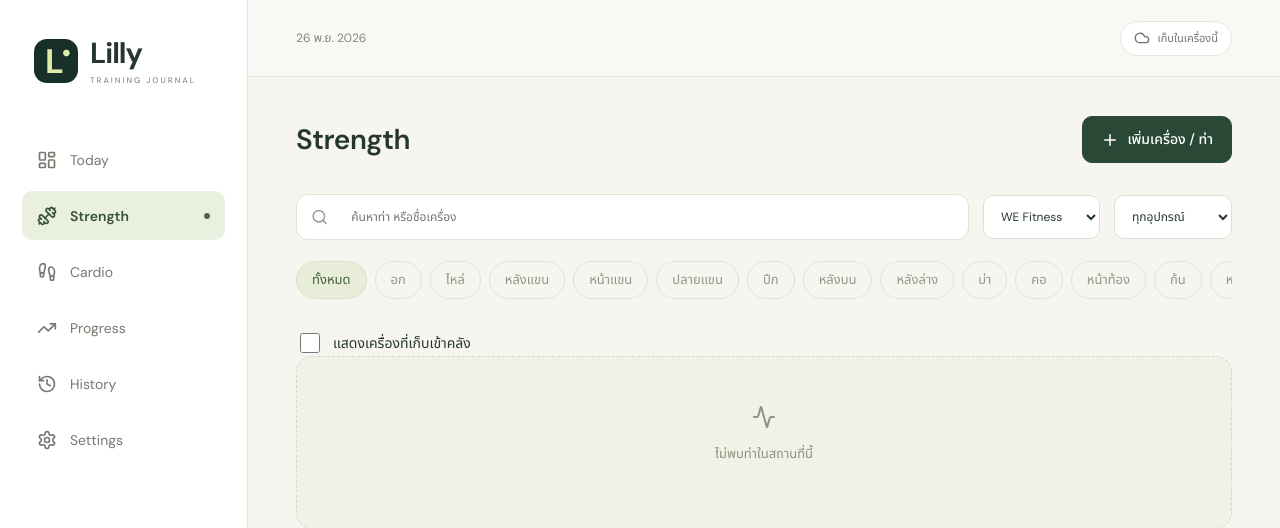
Test: shows Kettlebell Upright Row under the home filter with editable photos
This screenshot has width=1280, height=528.
Later steps or results of the test are not shown.
Select "ที่บ้าน" in the dropdown named "ฟิตเนส": (1042, 217) [983, 195, 1100, 239]
(page scrolled)
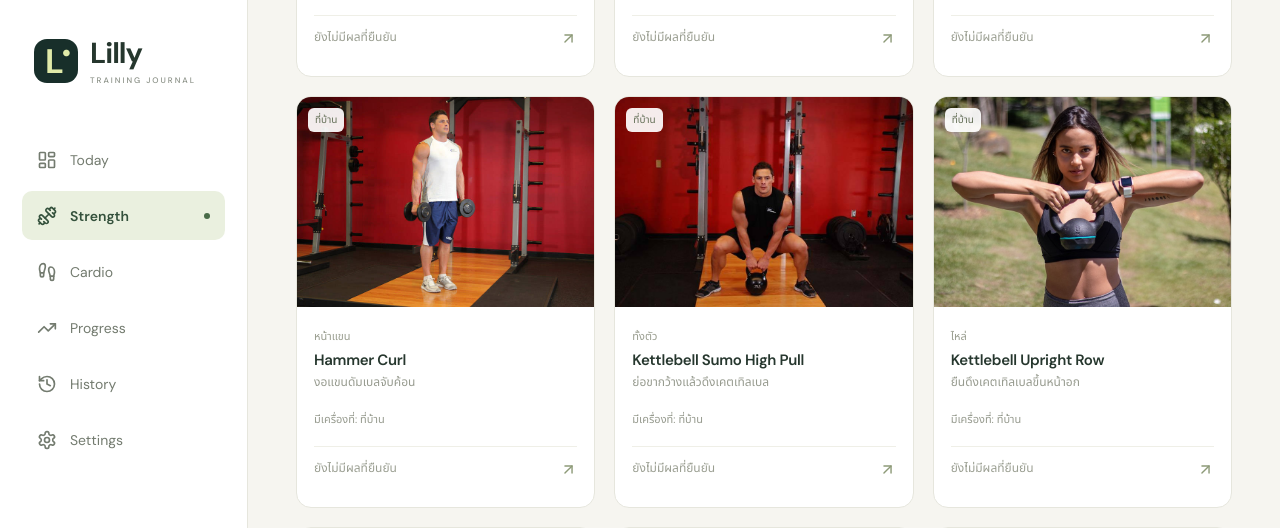
Click the heading "Kettlebell Upright Row": click(1027, 360) [951, 350, 1104, 370]
(page scrolled)
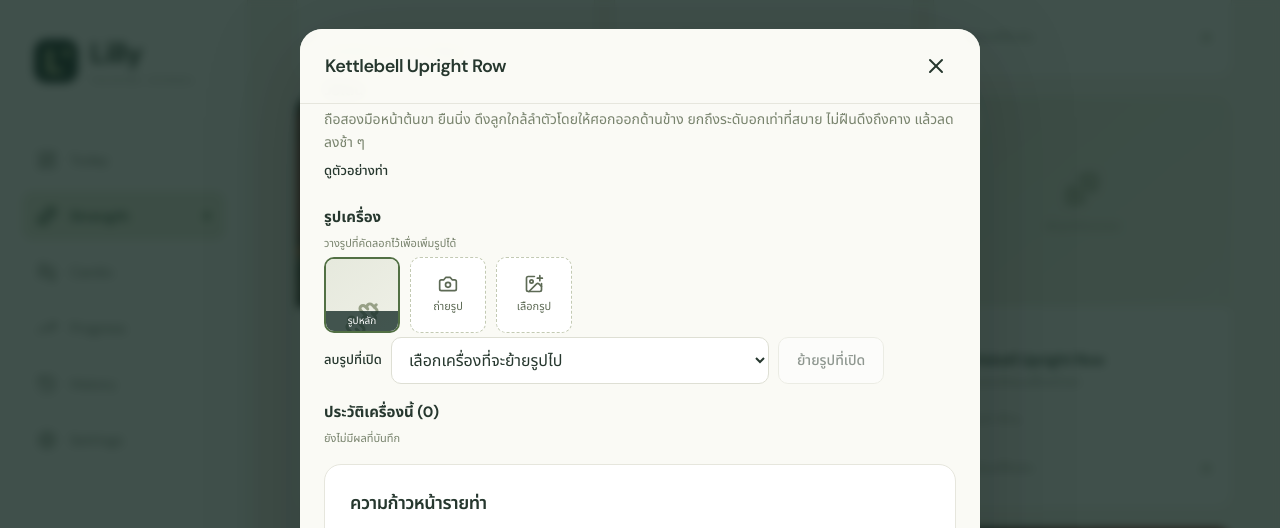
Now the button "รูปหลัก" is shown, box [324, 257, 400, 333]
Now the file field labelled "เลือกรูป" is shown, box [496, 257, 572, 333]
